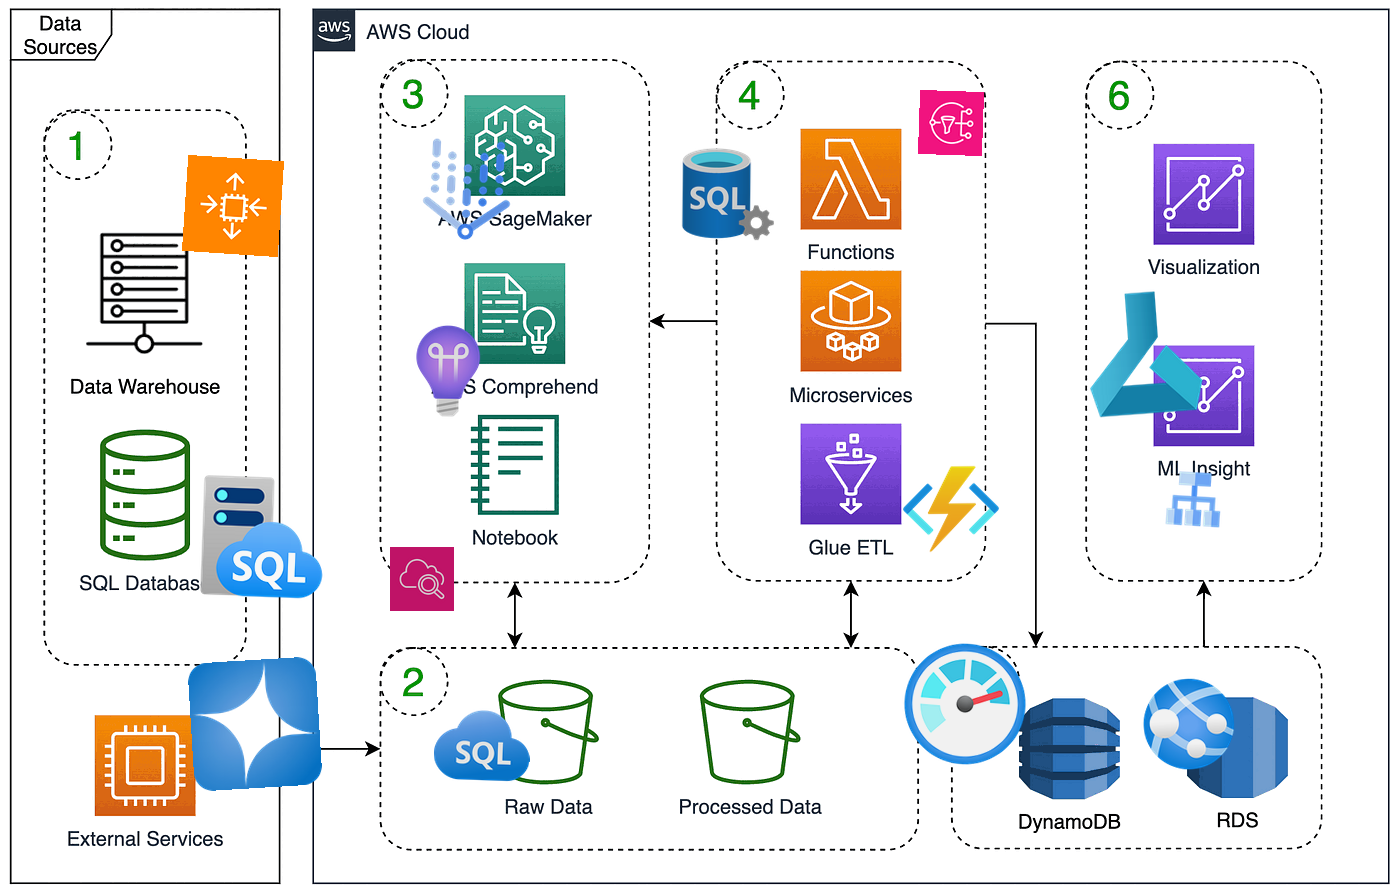aws_amazon_cloudwatch: (389, 546, 455, 612)
aws_amazon_ec2_auto_scaling: (181, 154, 285, 258)
aws_amazon_simple_notification_service: (917, 89, 985, 157)
azure_app_services: (1138, 673, 1240, 775)
azure_application_insights: (399, 322, 497, 420)
azure_function_apps: (902, 460, 1000, 558)
azure_machine_learning: (1076, 284, 1213, 423)
azure_monitor: (895, 634, 1035, 774)
azure_openai: (187, 656, 323, 792)
azure_sql: (432, 697, 532, 797)
azure_sql_managed_instance: (196, 470, 330, 604)
azure_sql_server: (679, 145, 777, 243)
gcp_cloud_load_balancing: (1160, 465, 1228, 533)
gcp_vertex_ai: (400, 123, 534, 257)
